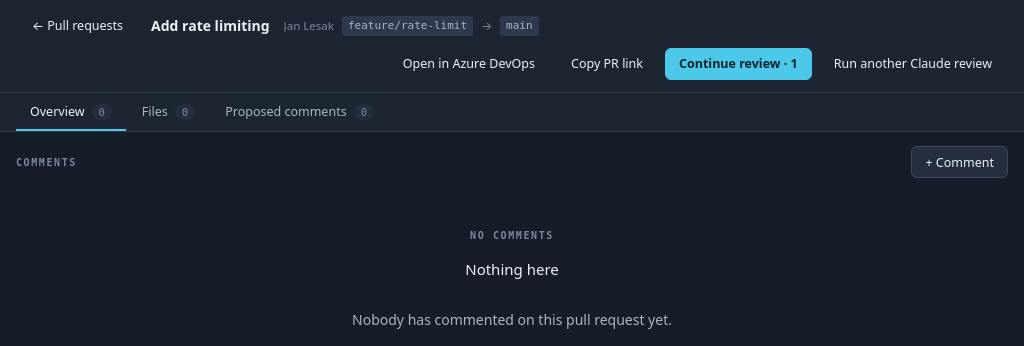
Test case: PrDetail file list width › a diff that could not be loaded has no file list, so no divider
What coordinates should you click on to do the following:
click the button with test id "pr-tab-files"
I would click on:
 (169, 112)
Its box is [128,93,209,131].
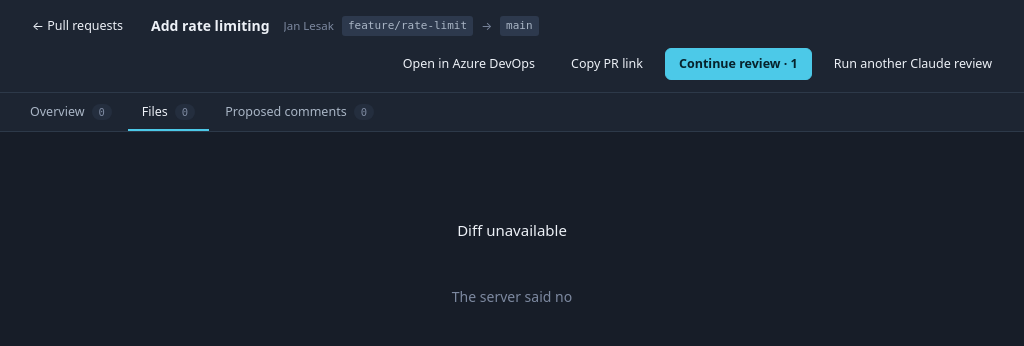
expect the element with class "ix-pr-detail--empty" is shown: met, box [452,220,572,306]
